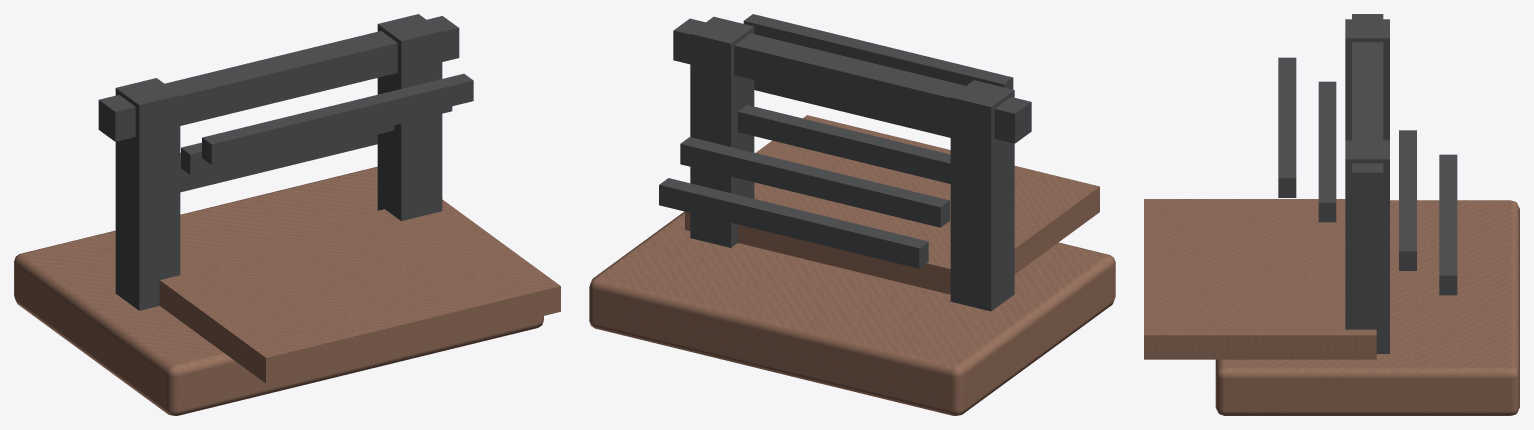
Rendered from wild-west-frontier-town-boot-scraper-bddbf3fa__30110.glb.
3 views of the same model, side by side, from view 1: azimuth 30°, elevation 25°; view 2: azimuth 150°, elevation 25°; view 3: azimuth 270°, elevation 25° (orthographic). The views are drawn at different scales.
Visible parts, largest first — view 1: boot-scraper; view 2: boot-scraper; view 3: boot-scraper.
Part boxes in pixels (bbox=[...]): boot-scraper: bbox=[14, 14, 560, 415]; boot-scraper: bbox=[589, 14, 1115, 415]; boot-scraper: bbox=[1144, 14, 1519, 415].
Size of the model in its own units: 0.46 by 0.3 by 0.42.
Materials: 2 (1 with a texture image).
